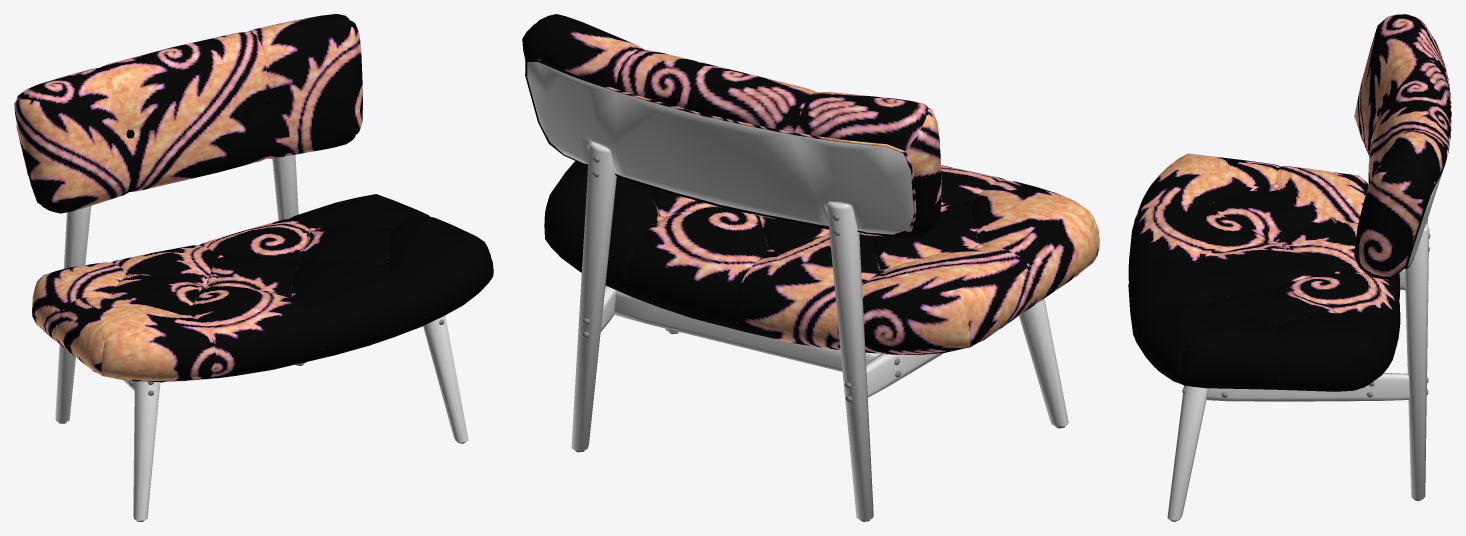
The model's file is DamaskChair.fbx.
3 views of the same model, side by side, from view 1: azimuth 30°, elevation 25°; view 2: azimuth 150°, elevation 25°; view 3: azimuth 270°, elevation 25° (orthographic). The views are drawn at different scales.
Parts seen in each view (by area): view 1: oval-tufted-chair_seat-fabric, oval-tufted-chair_back-fabric, oval-tufted-chair_legs-frame; view 2: oval-tufted-chair_seat-fabric, oval-tufted-chair_back-panel, oval-tufted-chair_legs-frame, oval-tufted-chair_back-fabric, oval-tufted-chair_back-welt; view 3: oval-tufted-chair_seat-fabric, oval-tufted-chair_back-fabric, oval-tufted-chair_legs-frame, oval-tufted-chair_back-welt, oval-tufted-chair_back-panel.
Boxes of the visible parts, x1,y1,x2,y2 form: oval-tufted-chair_seat-fabric: (32,194,493,380); oval-tufted-chair_back-fabric: (14,14,362,213); oval-tufted-chair_legs-frame: (55,154,468,520); oval-tufted-chair_seat-fabric: (544,161,1099,354); oval-tufted-chair_back-panel: (527,62,913,234); oval-tufted-chair_legs-frame: (571,142,1068,520); oval-tufted-chair_back-fabric: (522,14,941,237); oval-tufted-chair_back-welt: (525,58,916,235); oval-tufted-chair_seat-fabric: (1128,153,1400,390); oval-tufted-chair_back-fabric: (1354,14,1450,279); oval-tufted-chair_legs-frame: (1167,218,1429,520); oval-tufted-chair_back-welt: (1405,39,1451,268); oval-tufted-chair_back-panel: (1407,132,1443,266).
Bounding box in the file's own units: 0.8286 × 0.6874 × 0.5717.
Materials: 4 (2 with a texture image).
